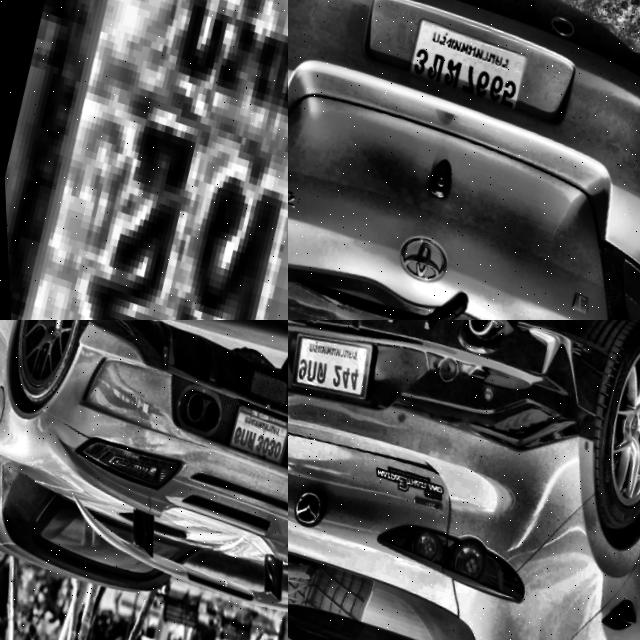license-plate: (0, 0, 288, 320), (401, 10, 531, 108), (288, 320, 377, 407), (221, 389, 288, 458)
